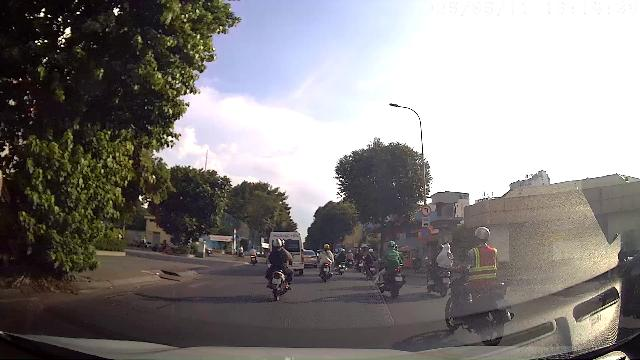123a-cam-re-trai: (421, 205, 432, 216)
